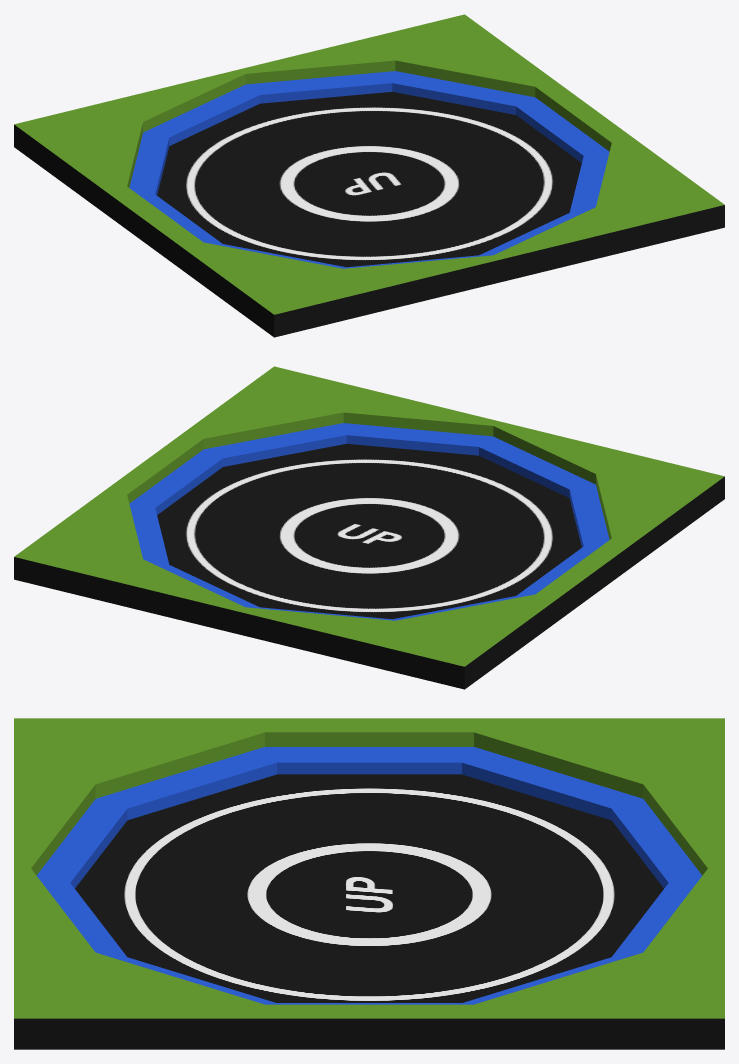
Rendered from trampoline.glb.
The picture shows the model from 3 angles, top to bottom: view 1: azimuth 30°, elevation 25°; view 2: azimuth 150°, elevation 25°; view 3: azimuth 270°, elevation 25°; orthographic projection. The views are drawn at different scales.
Parts seen in each view (by area): view 1: trampoline, trampoline.2; view 2: trampoline, trampoline.2; view 3: trampoline, trampoline.2.
Boxes of the visible parts, x1,y1,x2,y2 form: trampoline: (14,14,724,337); trampoline.2: (157,91,581,267); trampoline: (14,366,724,689); trampoline.2: (157,443,581,619); trampoline: (14,718,724,1049); trampoline.2: (75,774,663,1002).
Bounding box in the file's own units: 2.38 × 0.1465 × 2.38.
4 materials, 1 textured.
